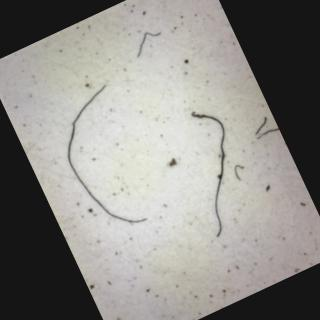Microplastic: (30, 73, 181, 258), (144, 75, 278, 262), (120, 20, 169, 64), (239, 108, 283, 154)
